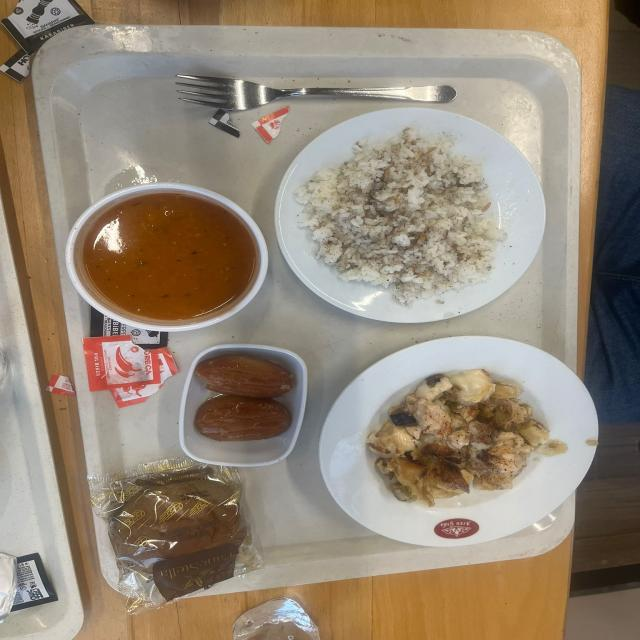ana_yemek: (319, 336, 586, 550), (275, 107, 527, 318)
corba: (64, 183, 268, 326)
yan_yemek: (177, 345, 305, 466)
